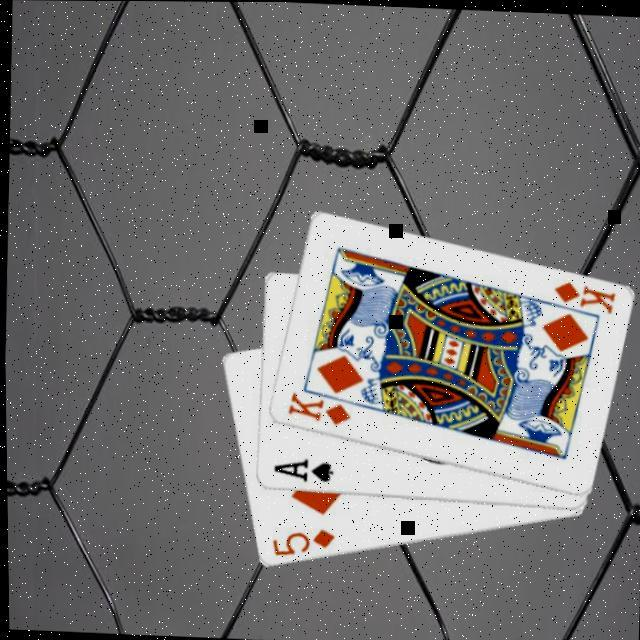5D: (264, 520, 334, 558)
AS: (265, 451, 332, 483)
KD: (279, 386, 350, 426), (546, 275, 615, 314)
